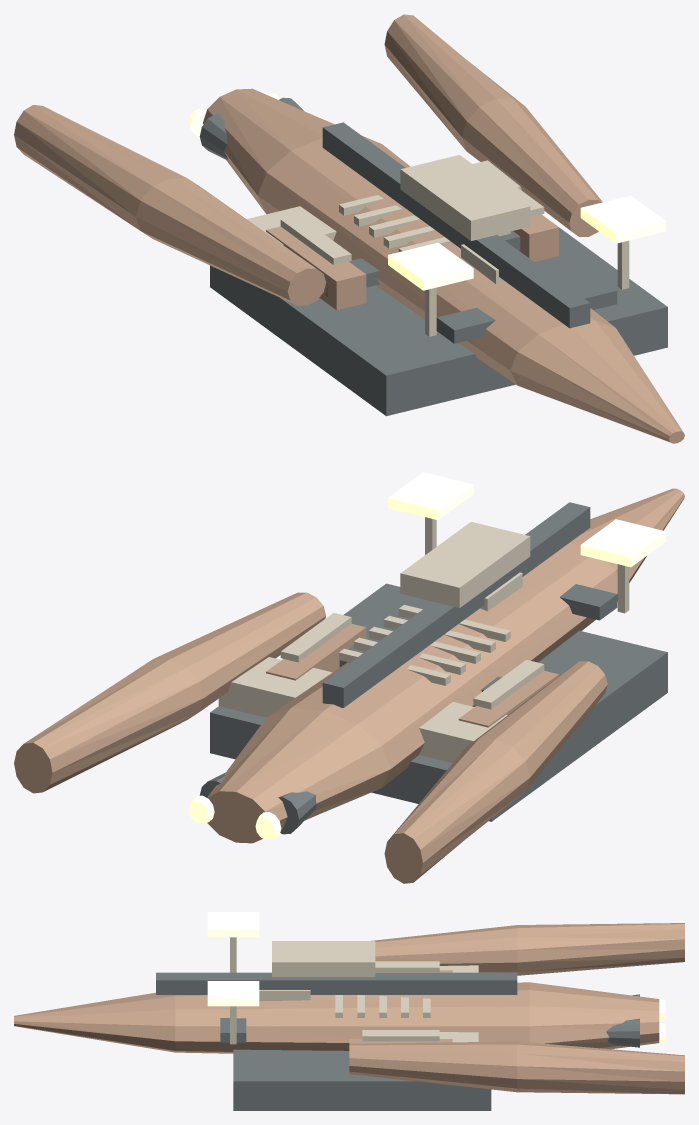
The picture shows the model from 3 angles, top to bottom: view 1: azimuth 30°, elevation 25°; view 2: azimuth 150°, elevation 25°; view 3: azimuth 270°, elevation 25°; orthographic projection. The views are drawn at different scales.
Size of the model in its own units: 5.46 by 1.9 by 10.61.
